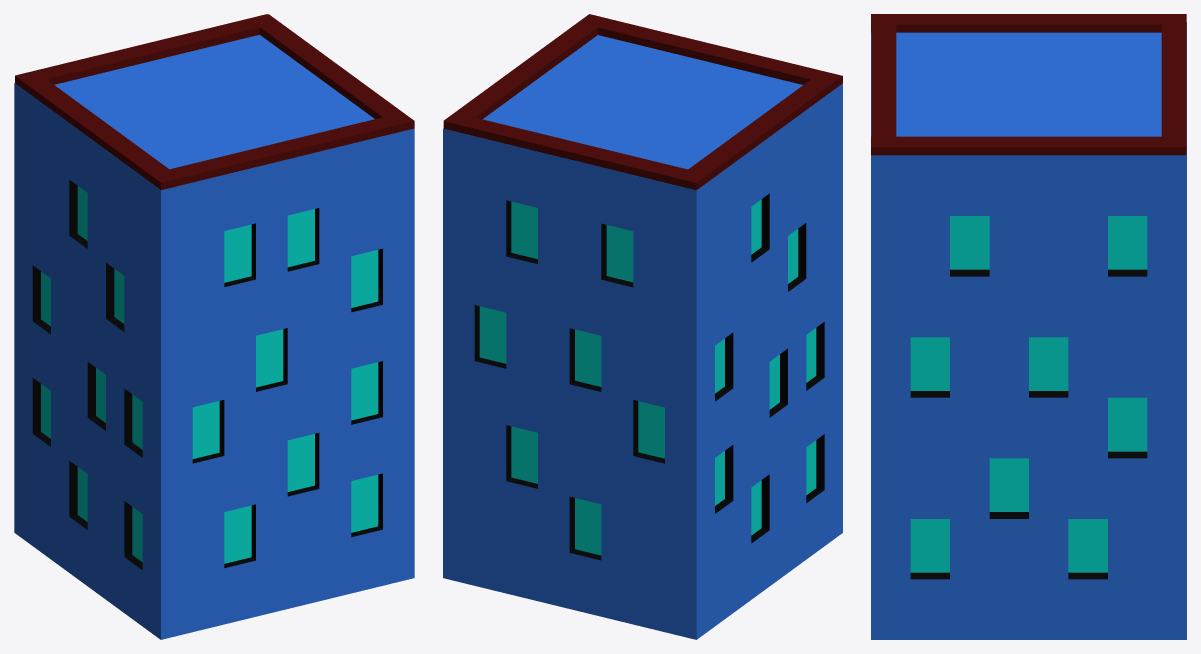
File: building 16.fbx
3 renders of one model, left to right at view 1: azimuth 30°, elevation 25°; view 2: azimuth 150°, elevation 25°; view 3: azimuth 270°, elevation 25°, orthographic. The views are drawn at different scales.
Parts seen in each view (by area): view 1: Cube, Cube.003, Cube.004, Cube.002, Cube.001; view 2: Cube, Cube.003, Cube.004, Cube.002, Cube.001; view 3: Cube, Cube.001, Cube.002, Cube.003, Cube.004.
Boxes of the visible parts, left/top/right/bottom form: Cube: left=14, top=34, right=414, bottom=639; Cube.003: left=15, top=14, right=278, bottom=84; Cube.004: left=170, top=117, right=394, bottom=185; Cube.002: left=15, top=76, right=180, bottom=190; Cube.001: left=259, top=14, right=414, bottom=133; Cube: left=443, top=35, right=842, bottom=639; Cube.003: left=444, top=113, right=707, bottom=190; Cube.004: left=598, top=19, right=821, bottom=84; Cube.002: left=677, top=71, right=842, bottom=189; Cube.001: left=443, top=14, right=608, bottom=127; Cube: left=871, top=22, right=1186, bottom=639; Cube.001: left=871, top=136, right=1185, bottom=155; Cube.002: left=871, top=14, right=1161, bottom=32; Cube.003: left=1161, top=14, right=1186, bottom=154; Cube.004: left=871, top=24, right=896, bottom=136.
Bounding box in the file's own units: 2493 × 4292 × 2493.
